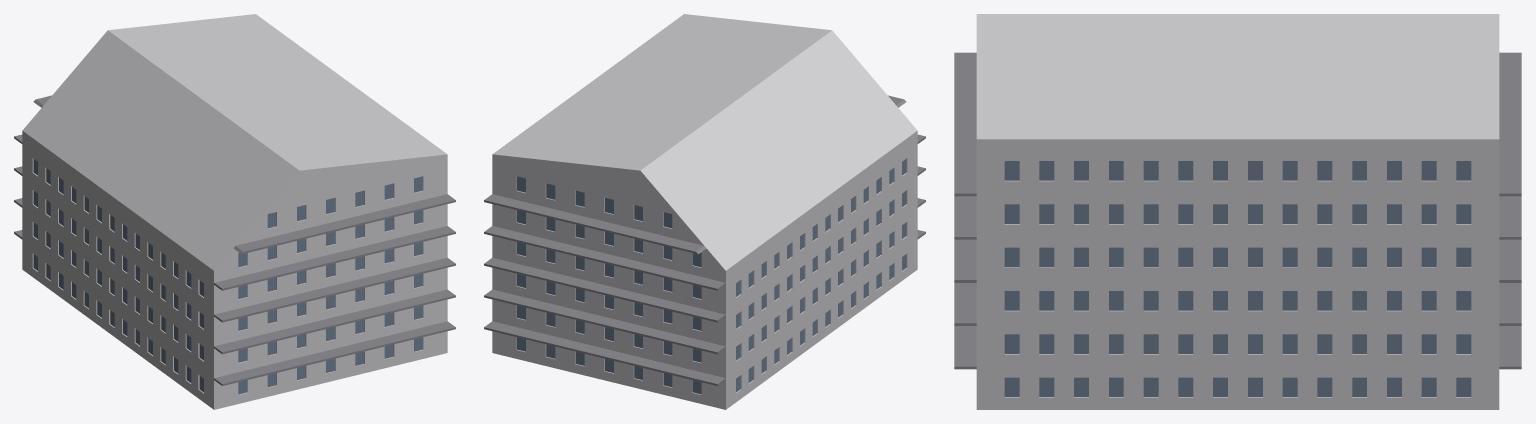
Rendered from bygning.glb.
3 renders of one model, left to right at view 1: azimuth 30°, elevation 25°; view 2: azimuth 150°, elevation 25°; view 3: azimuth 270°, elevation 25°, orthographic. The views are drawn at different scales.
Visible parts, largest first — view 1: bygning (×3); view 2: bygning (×3); view 3: bygning (×3).
Part boxes in pixels (x1,y1,x2,y2): bygning (×3): (14, 14, 455, 409); bygning (×3): (484, 14, 925, 409); bygning (×3): (954, 14, 1521, 409).
Bounding box in the file's own units: 24.6 × 22 × 38.
